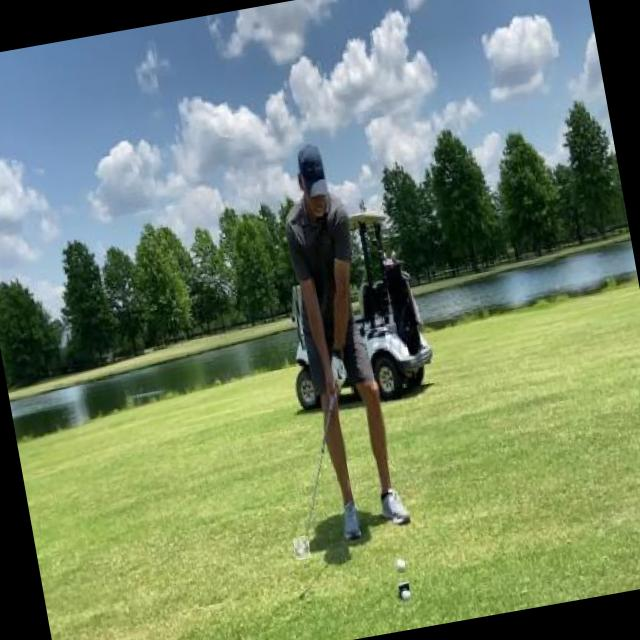club head: (292, 536, 311, 560)
